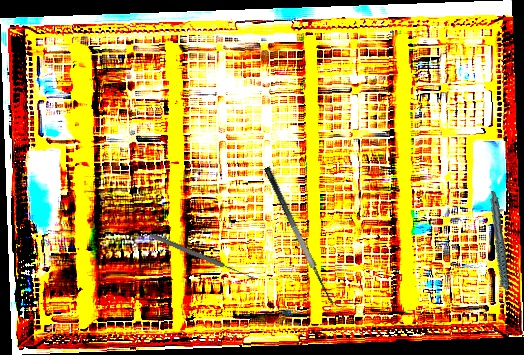Handpiece: (476, 191, 522, 306)
Spatula Surgical: (263, 161, 344, 309)
Surgical Spoon: (148, 231, 257, 283)
